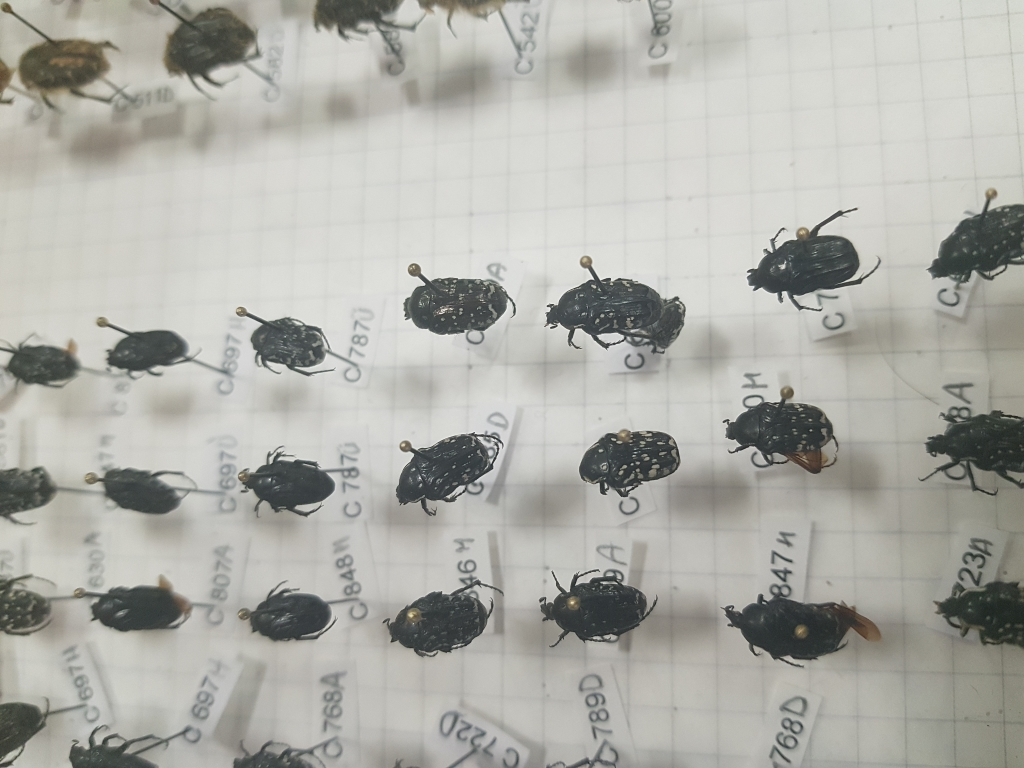Oxythyrea_albopicta: (739, 198, 892, 312), (545, 272, 693, 368), (372, 574, 508, 659), (566, 417, 680, 507), (389, 430, 507, 513), (399, 272, 519, 347), (351, 457, 352, 458)
